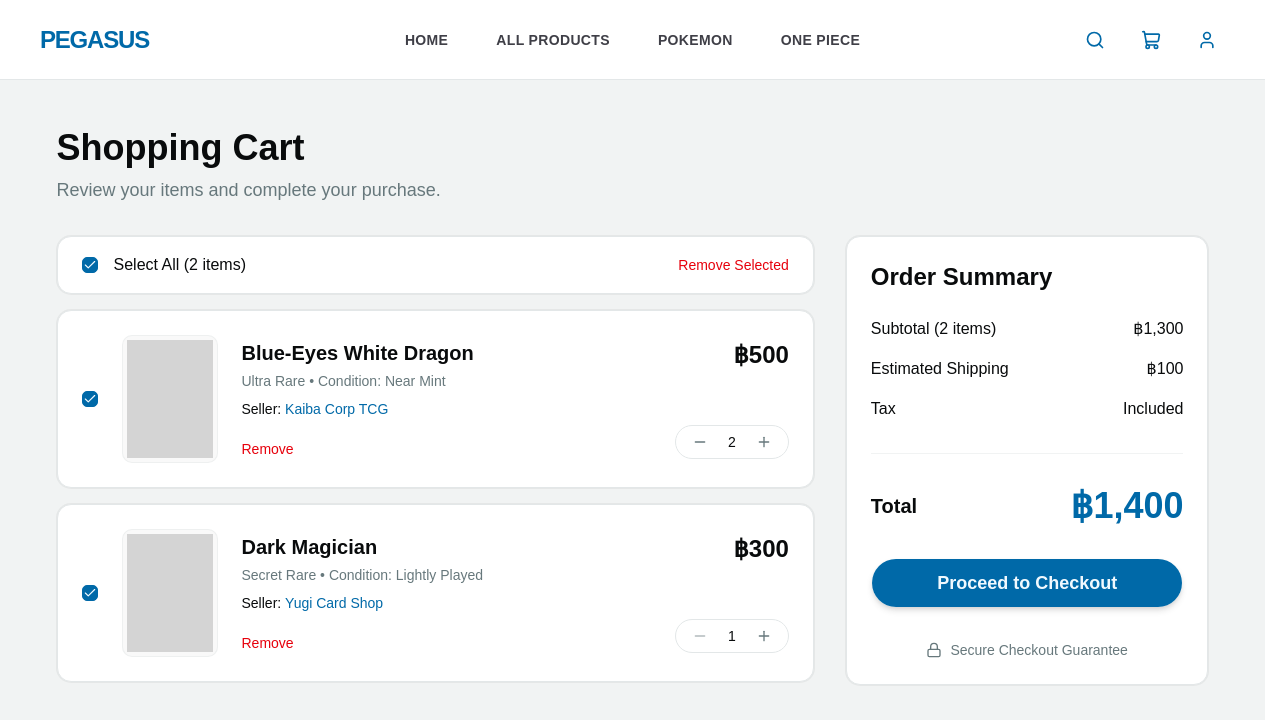
Test: Core Shopping Cart Flow › removes an item from cart and dynamically updates the cart
Expected: the heading "Dark Magician" is shown, [242,536,377,558]
// Click remove on the second item (Dark Magician)
Click the button "Remove Selected": x=734, y=265 [678,255,789,275]
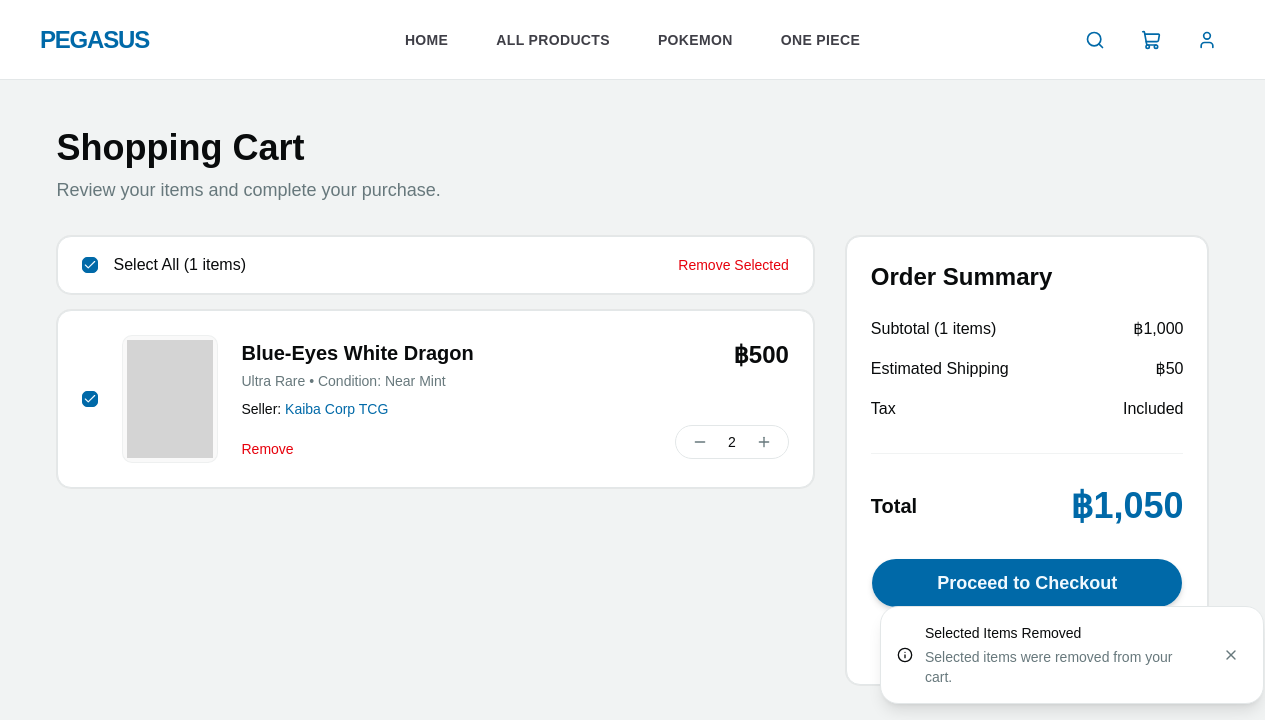
Expected: the heading "Blue-Eyes White Dragon" is shown, [242,342,474,364]
Expected: the heading "Dark Magician" is gone
Expected: the text "Subtotal (1 items)" is shown, [871,317,996,341]
